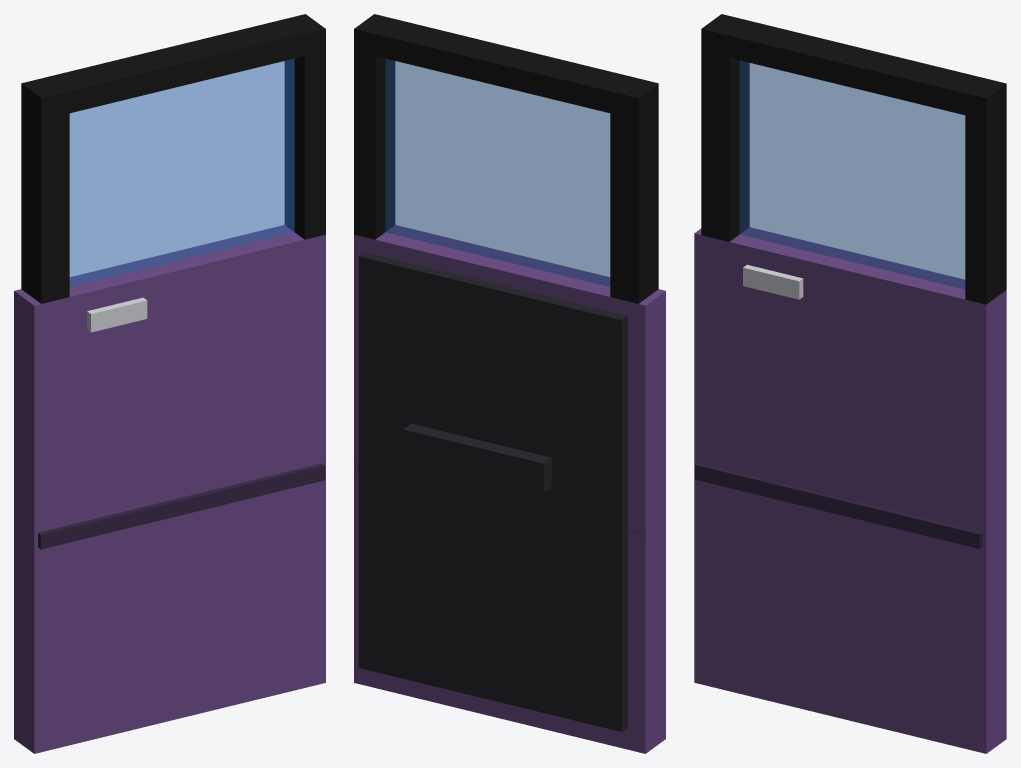
The model's file is door_rear_l.obj.
3 renders of one model, left to right at view 1: azimuth 30°, elevation 25°; view 2: azimuth 150°, elevation 25°; view 3: azimuth 330°, elevation 25°, orthographic.
Parts seen in each view (by area): view 1: Door_Rear_L; view 2: Door_Rear_L; view 3: Door_Rear_L.
Part boxes in pixels (bbox=[...]): Door_Rear_L: bbox=[14, 14, 325, 753]; Door_Rear_L: bbox=[354, 14, 665, 753]; Door_Rear_L: bbox=[694, 14, 1006, 753].
Size of the model in its own units: 0.83 by 1.78 by 0.19.
